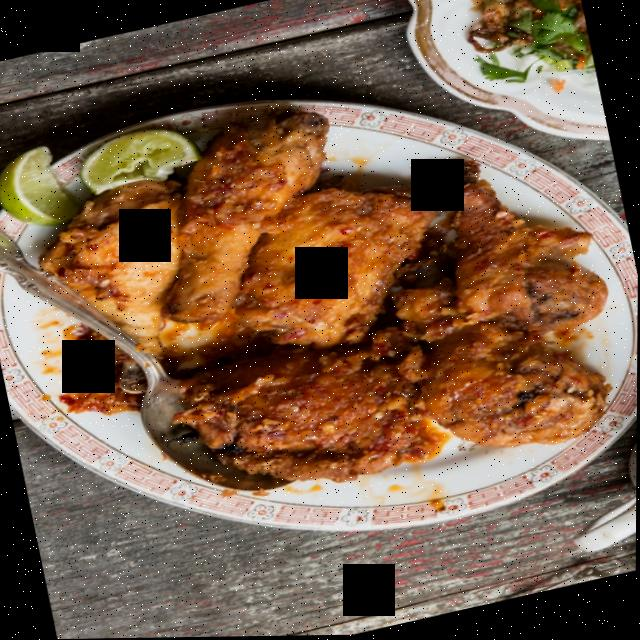Frango: (16, 52, 640, 548)
